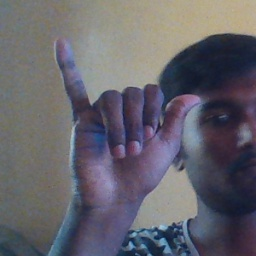J: (51, 37, 200, 196)
